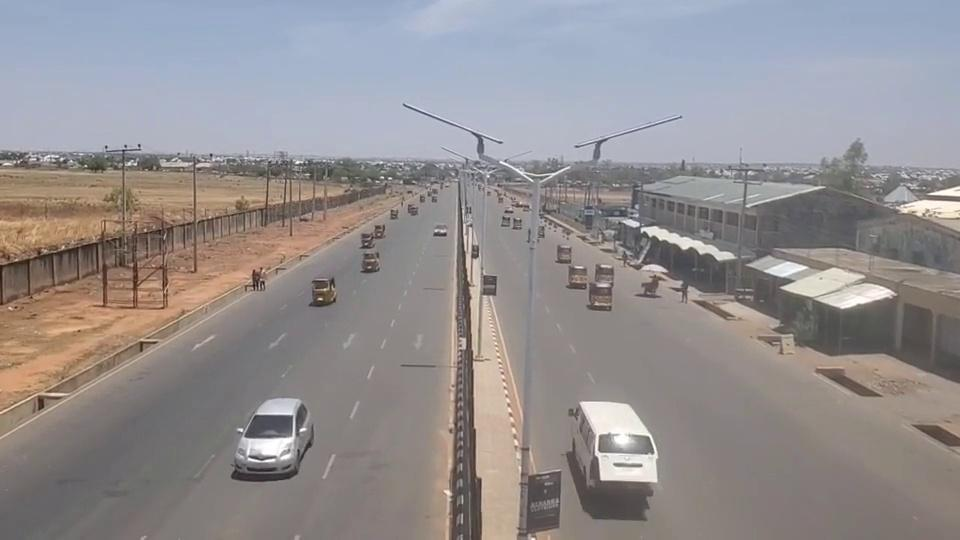bus: (569, 400, 657, 494)
car: (232, 396, 311, 475)
keke: (310, 276, 336, 304), (361, 251, 379, 272)
